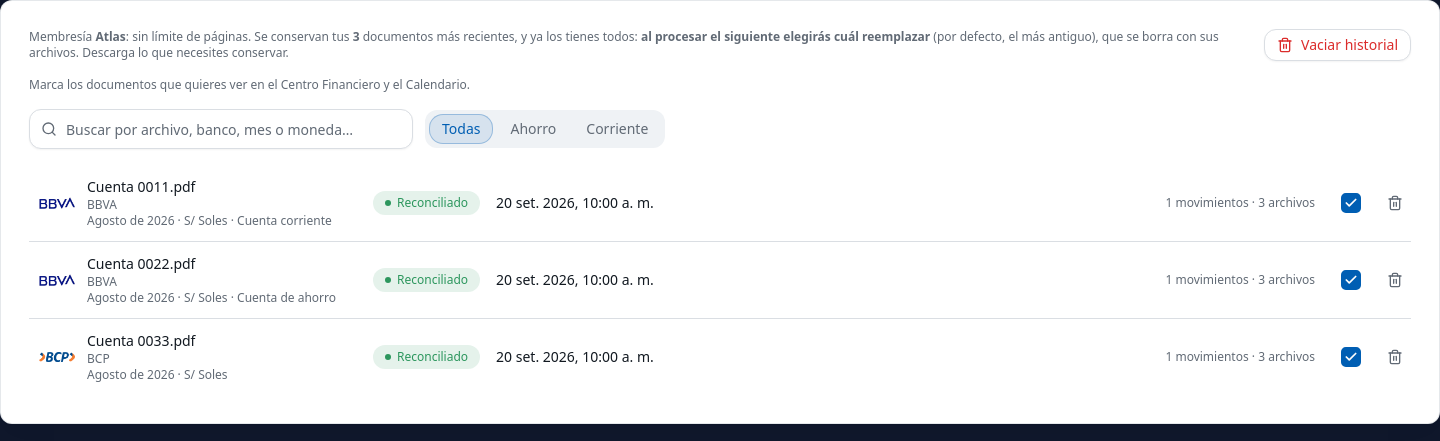
JobHistory: tipo de cuenta › el buscador también encuentra el tipo de cuenta
This screenshot has width=1440, height=441.
Expected: the text "Agosto de 2026 · S/ Soles · Cuenta de ahorro" is shown, [87,290,336,306]
Type "ahorro" into the search field named "Buscar en el historial" at (221, 129), box [29,109,413,149]
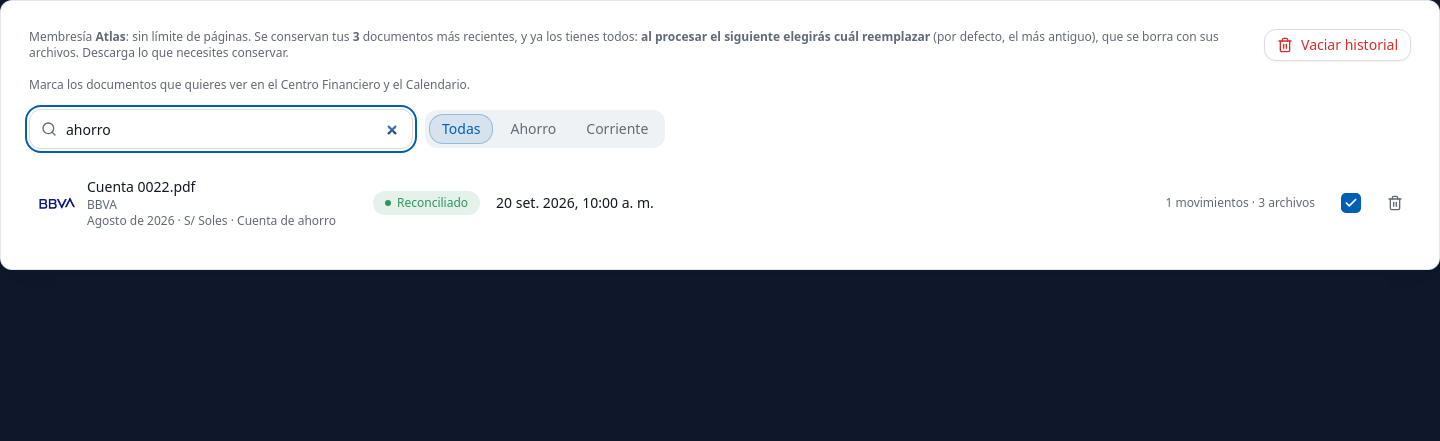
Expected: the text "Cuenta 0022.pdf" is shown, [87,177,195,196]
Expected: the link "Cuenta 0011.pdf" is gone
